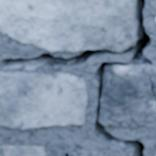brick: (0, 0, 133, 51), (0, 72, 86, 128), (100, 66, 155, 126), (0, 145, 63, 155), (70, 151, 106, 155)
crack: (0, 0, 153, 155), (64, 152, 74, 155)
